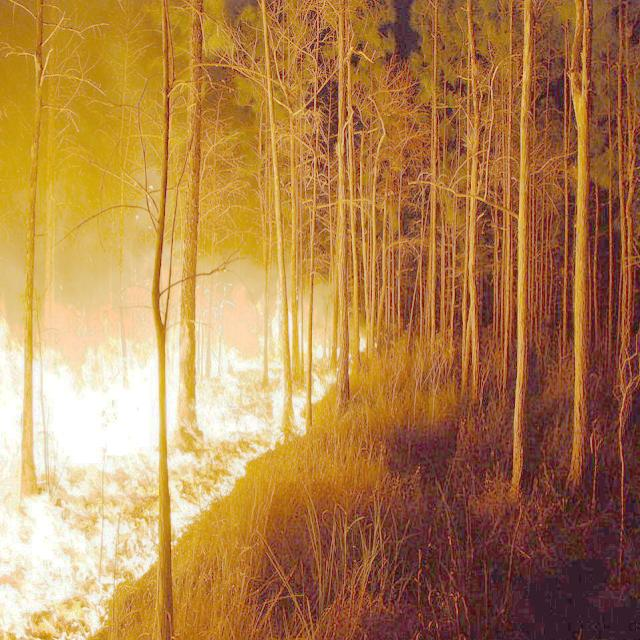api: (48, 328, 162, 468), (36, 495, 106, 624), (1, 328, 30, 637), (199, 351, 273, 447), (103, 473, 163, 575), (164, 331, 193, 521), (195, 453, 253, 505), (274, 353, 293, 448), (294, 385, 306, 431)
